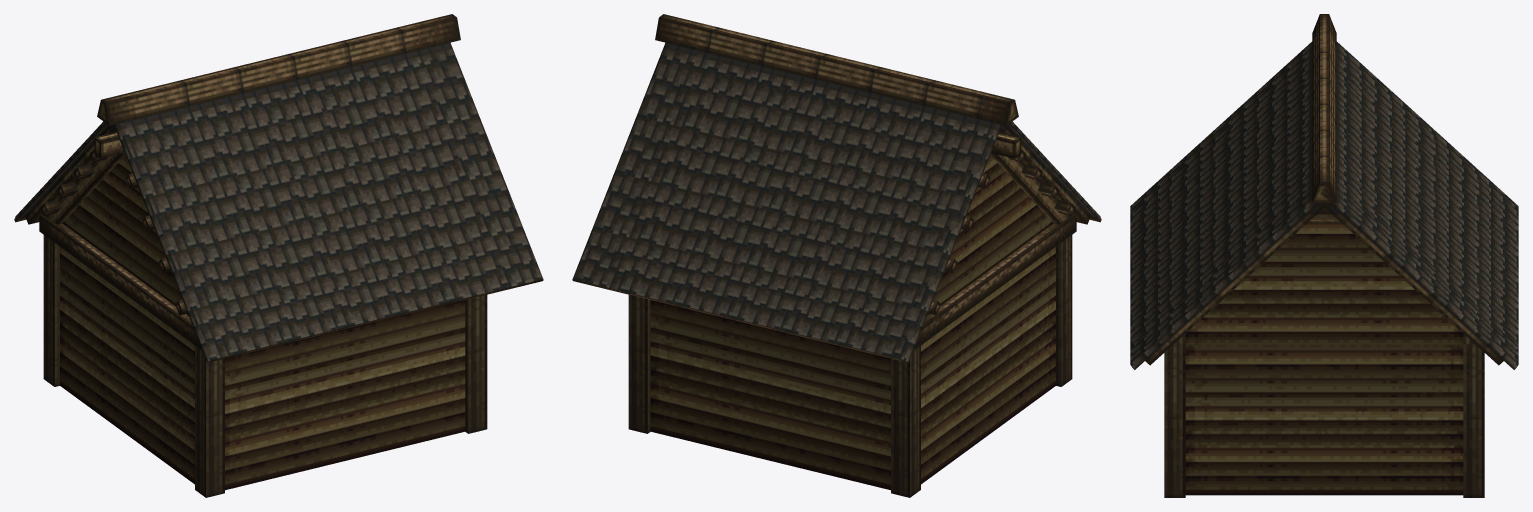
Rendered from EnvBdgMD_WoodHouse_A_Outdoor_House_C.FBX.
3 views of the same model, side by side, from view 1: azimuth 30°, elevation 25°; view 2: azimuth 150°, elevation 25°; view 3: azimuth 270°, elevation 25° (orthographic).
Visible parts, largest first — view 1: EnvBdgMD_WoodHouse_A_Outdoor_House_C; view 2: EnvBdgMD_WoodHouse_A_Outdoor_House_C; view 3: EnvBdgMD_WoodHouse_A_Outdoor_House_C.
Part boxes in pixels (box(x1,y1,x2,y2)): EnvBdgMD_WoodHouse_A_Outdoor_House_C: box(14, 14, 543, 497); EnvBdgMD_WoodHouse_A_Outdoor_House_C: box(572, 14, 1101, 497); EnvBdgMD_WoodHouse_A_Outdoor_House_C: box(1130, 14, 1518, 497).
Size of the model in its own units: 660 by 605 by 629.
1 material, 1 textured.
